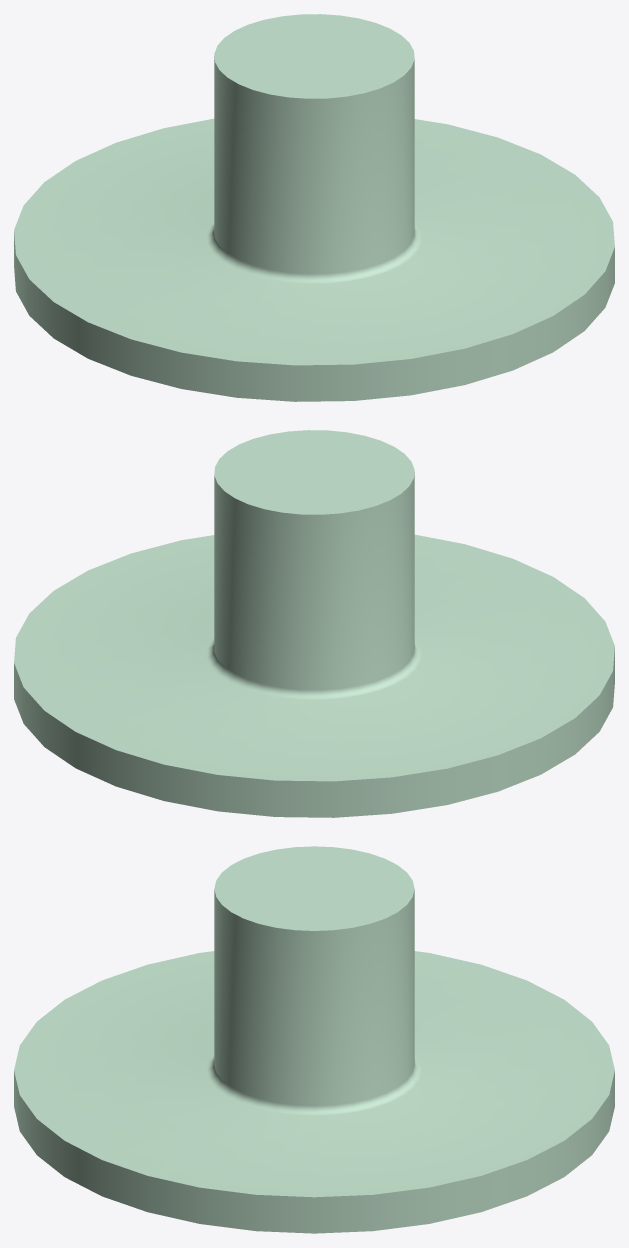
The model's file is BaseGameBall.fbx.
3 views of the same model, one above another, from view 1: azimuth 30°, elevation 25°; view 2: azimuth 150°, elevation 25°; view 3: azimuth 270°, elevation 25° (orthographic).
Parts seen in each view (by area): view 1: Base; view 2: Base; view 3: Base.
Part boxes in pixels (x1,y1,x2,y2): Base: (14,14,614,401); Base: (14,430,614,817); Base: (14,846,614,1233).
Bounding box in the file's own units: 600 × 240 × 600.
